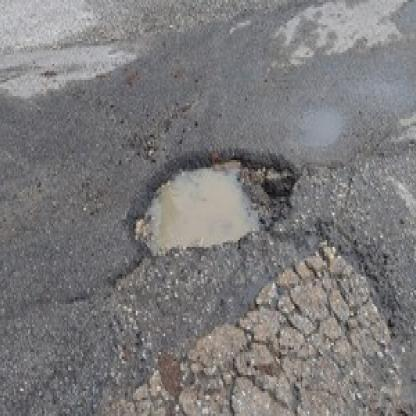pothole: (130, 149, 298, 259)
